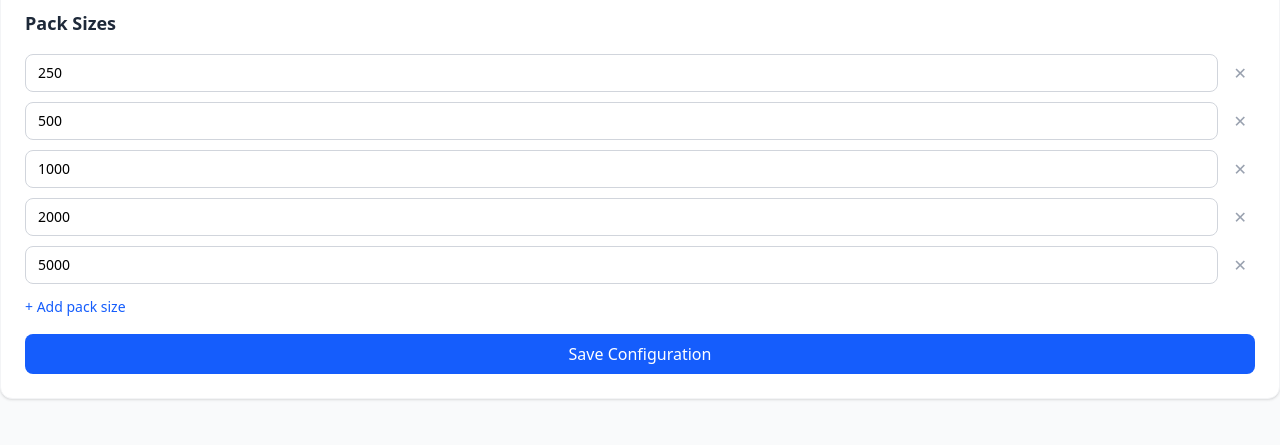
Test: shows validation error for duplicate values
Replace the text in the number field showing "250" with "500": (621, 73) [25, 54, 1218, 92]
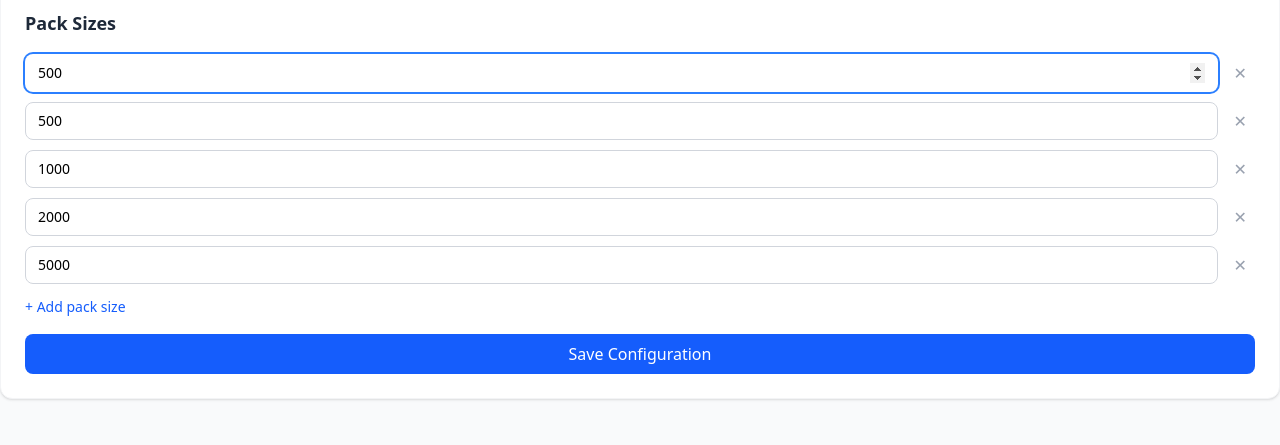
Click the button "Save Configuration": click(640, 354) [25, 334, 1255, 374]
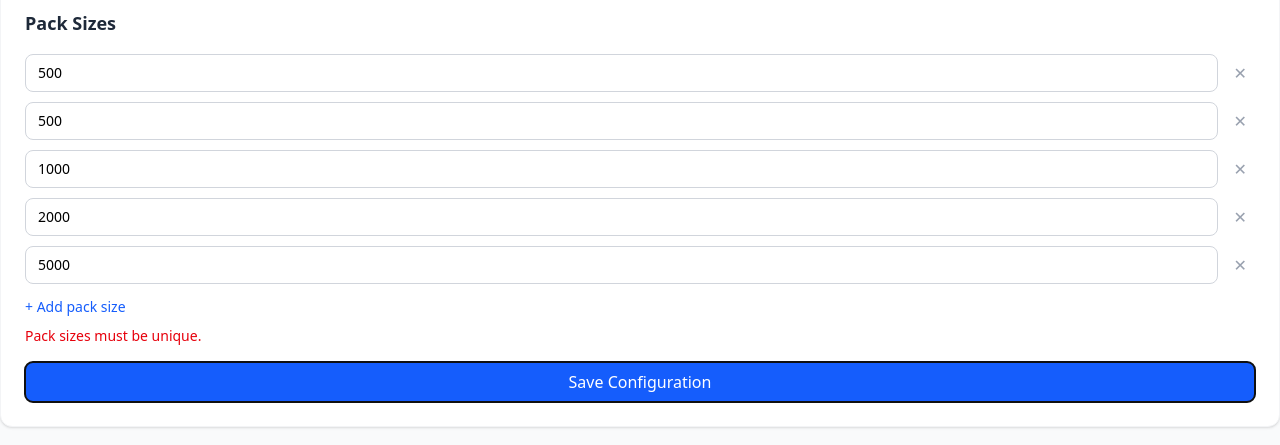
Expected: the message shows "unique", [25, 326, 201, 345]
